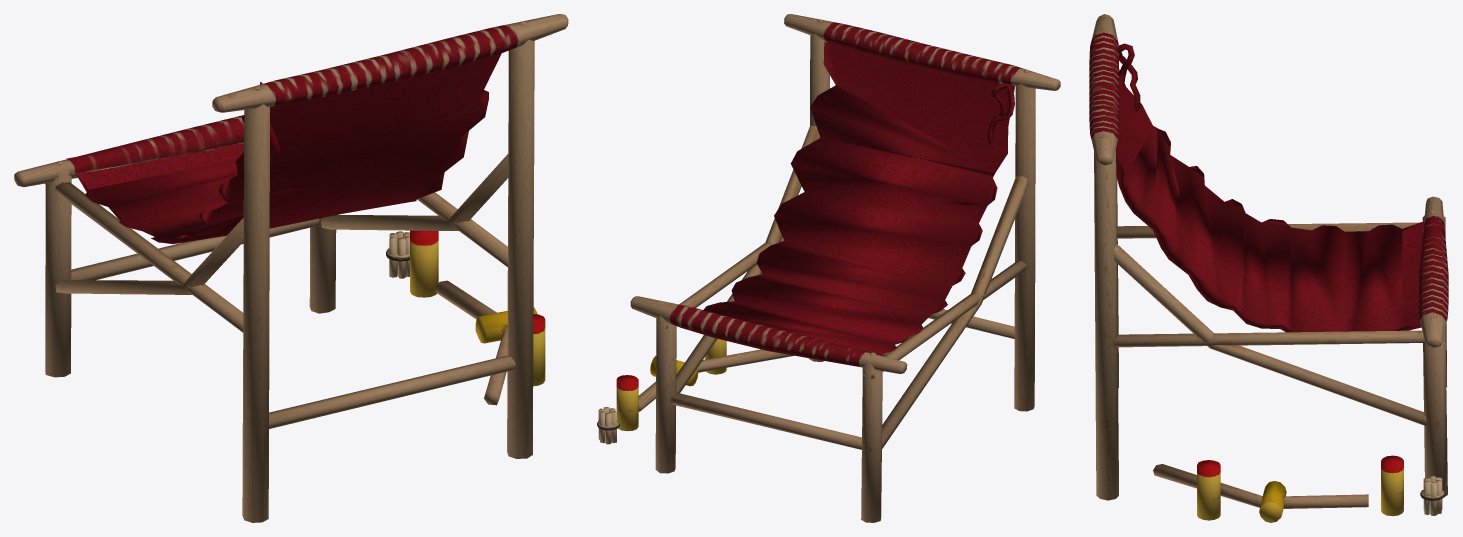
Rendered from rope_woven.glb.
3 views of the same model, side by side, from view 1: azimuth 30°, elevation 25°; view 2: azimuth 150°, elevation 25°; view 3: azimuth 270°, elevation 25° (orthographic). The views are drawn at different scales.
Parts seen in each view (by area): view 1: tripo_node_04b637ac-5991-4498-8567-cd737d6b5a01; view 2: tripo_node_04b637ac-5991-4498-8567-cd737d6b5a01; view 3: tripo_node_04b637ac-5991-4498-8567-cd737d6b5a01.
Part boxes in pixels (x1,y1,x2,y2): tripo_node_04b637ac-5991-4498-8567-cd737d6b5a01: [14, 14, 568, 522]; tripo_node_04b637ac-5991-4498-8567-cd737d6b5a01: [597, 14, 1060, 522]; tripo_node_04b637ac-5991-4498-8567-cd737d6b5a01: [1089, 14, 1448, 522].
Size of the model in its own units: 0.998 by 0.9863 by 0.8926.
1 material, 1 textured.
